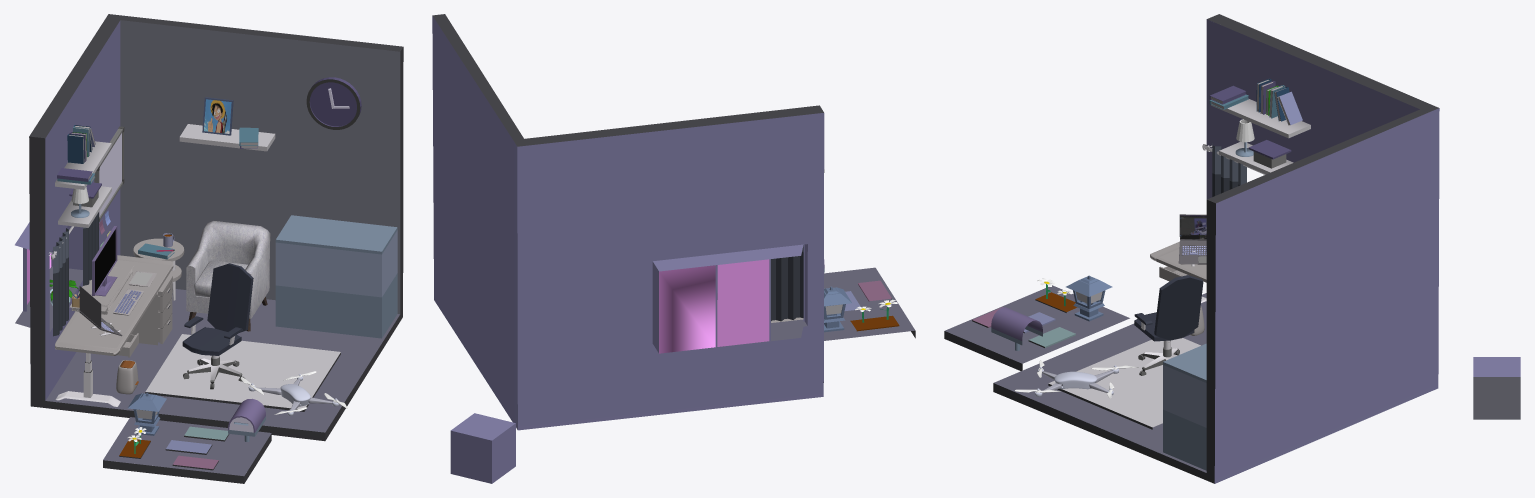
The model's file is myRoomFinaleV1.glb.
3 renders of one model, left to right at view 1: azimuth 30°, elevation 25°; view 2: azimuth 150°, elevation 25°; view 3: azimuth 270°, elevation 25°, orthographic. The views are drawn at different scales.
Parts seen in each view (by area): view 1: Body, Aquarium, Shelves, Floor Items, Table Stuff, Mini Floor, Desks, Chair, Computer, MailBox, outdoorLamp, FloorSecond (+4 smaller); view 2: Body, Cube, Mini Floor, Shelves, outdoorLamp, Dirt; view 3: Body, Shelves, Floor Items, Mini Floor, Aquarium, Chair, Cube, Computer, outdoorLamp, MailBox, Desks, Drone.
Part boxes in pixels (x1,y1,x2,y2): Body: (15, 14, 403, 441); Aquarium: (275, 215, 397, 338); Shelves: (49, 77, 361, 336); Floor Items: (116, 275, 340, 411); Table Stuff: (49, 221, 270, 331); Mini Floor: (103, 417, 271, 483); Desks: (55, 238, 184, 406); Chair: (182, 263, 253, 365); Computer: (79, 226, 122, 336); MailBox: (228, 398, 265, 441); outdoorLamp: (128, 392, 166, 435); FloorSecond: (165, 440, 212, 454); Body: (432, 14, 824, 430); Cube: (450, 413, 515, 483); Mini Floor: (824, 267, 915, 340); Shelves: (771, 245, 803, 321); outdoorLamp: (824, 286, 851, 332); Dirt: (850, 315, 899, 331); Body: (993, 14, 1439, 483); Shelves: (1202, 78, 1310, 196); Floor Items: (1048, 306, 1204, 429); Mini Floor: (944, 285, 1129, 370); Aquarium: (1163, 343, 1206, 470); Chair: (1134, 275, 1203, 357); Cube: (1473, 357, 1520, 419); Computer: (1178, 214, 1206, 266); outdoorLamp: (1066, 275, 1112, 321); MailBox: (991, 307, 1042, 350); Desks: (1150, 242, 1206, 302); Drone: (1054, 371, 1096, 389).
Size of the model in its own units: 27.74 by 20.09 by 35.03.
Materials: 59 (5 with a texture image).
